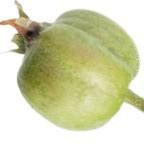fruit: (0, 5, 144, 131)
